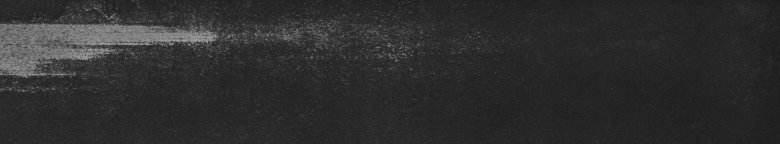kb: (4, 14, 80, 93)
